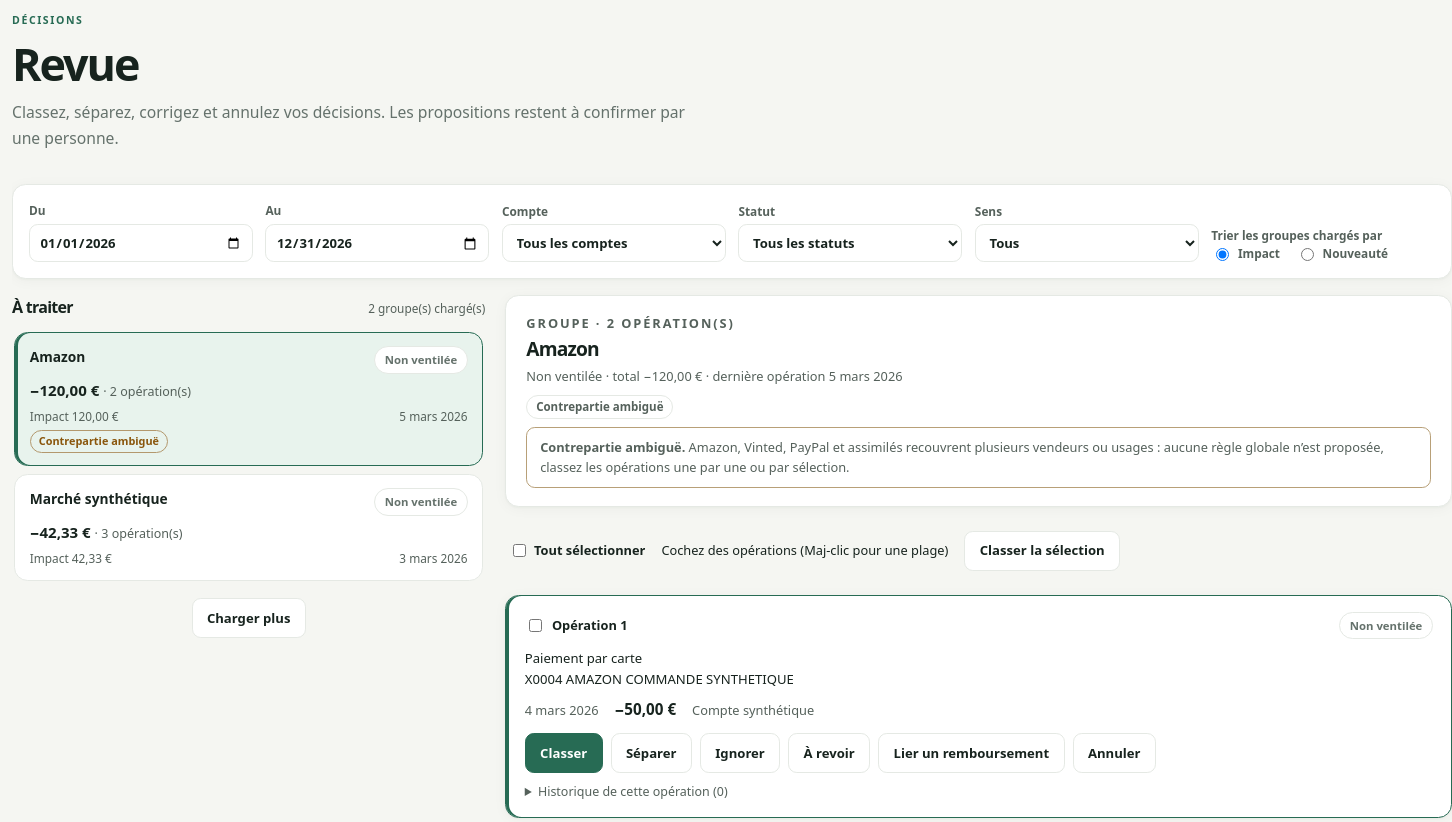
Test case: UI-REVIEW-01 · file groupée par contrepartie › charge la suite avec le curseur et conserve les groupes déjà affichés
The image size is (1452, 822).
expect the number of options is 2: met, box [14,332,483,466]; [14,474,483,581]
Click the button "Charger plus".
click(249, 618)  # box [192,598,306,638]
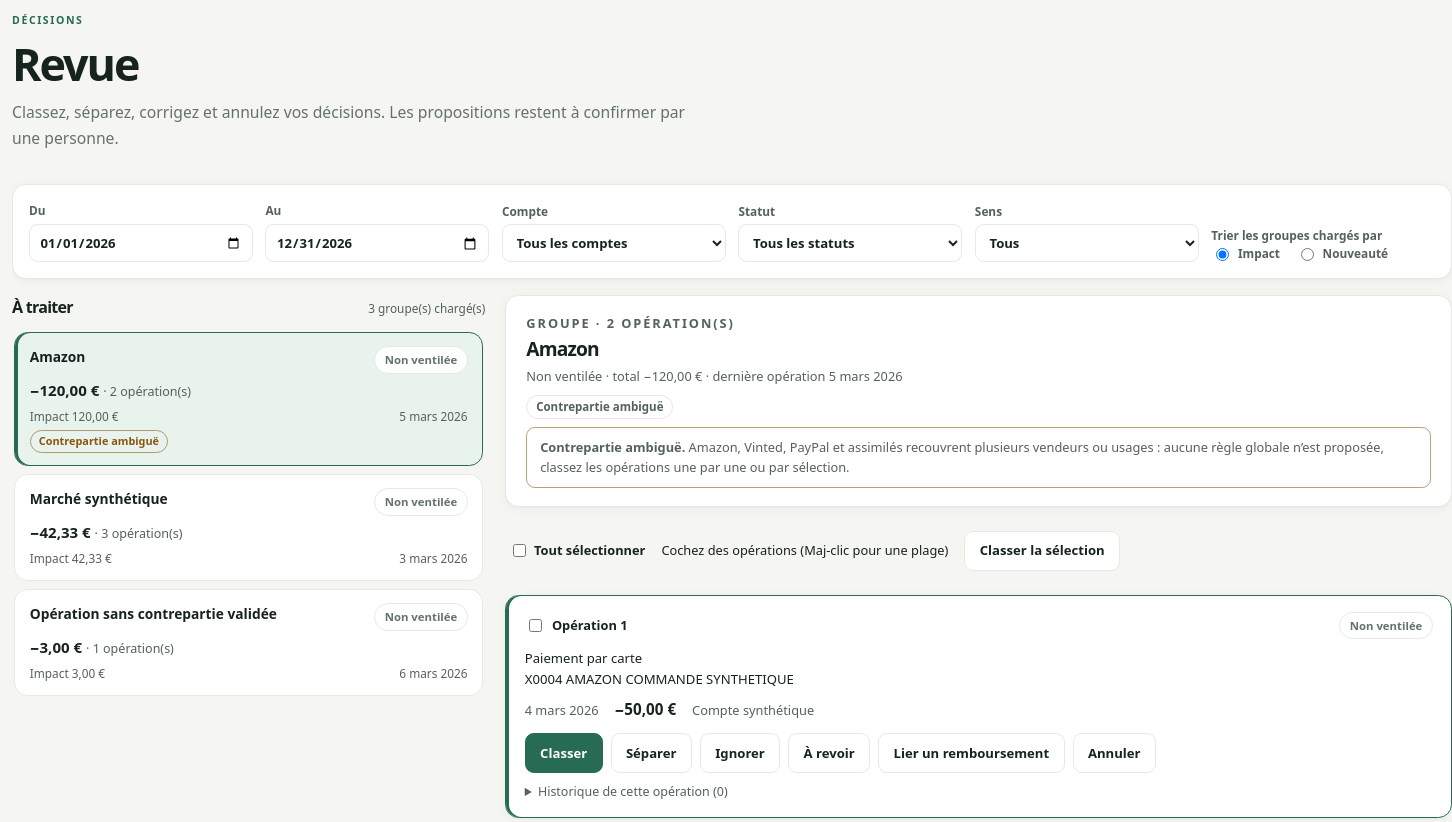
expect the number of options is 3: met, box [14,332,483,466]; [14,474,483,581]; [14,589,483,696]
expect the button "Charger plus" is gone: met
